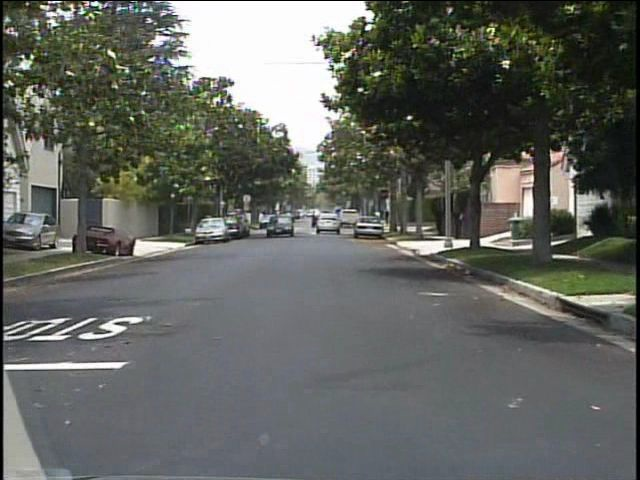person: (450, 199, 469, 242), (202, 208, 216, 233)
